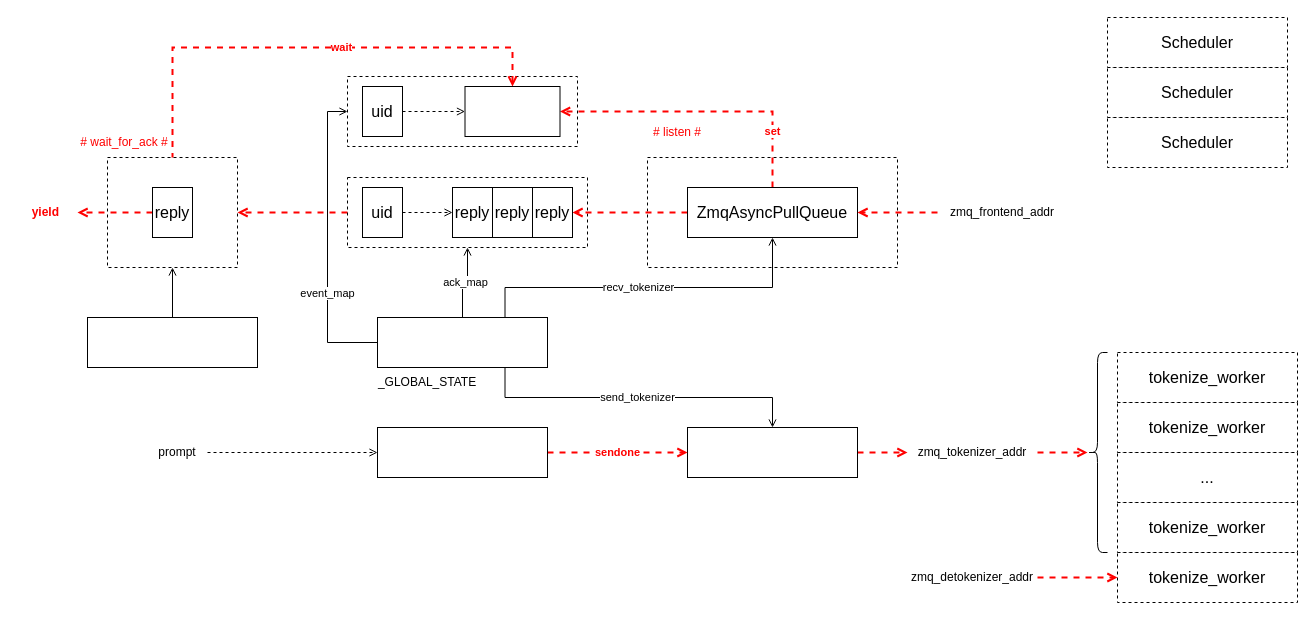
Some shapes in this 1315 by 620 pixel diagram are drawn without their labels. The shapes that lost their labels are listed below. From the top down, each one's box as (x1, y1, x2, y2) in pixels, then its label:
(464, 86, 560, 136): Event
(86, 316, 258, 368): StreamigResponse
(376, 316, 548, 368): FrontendManager
(376, 426, 548, 478): TokenizeMsg
(686, 426, 858, 478): ZmqAsyncPushQueue
